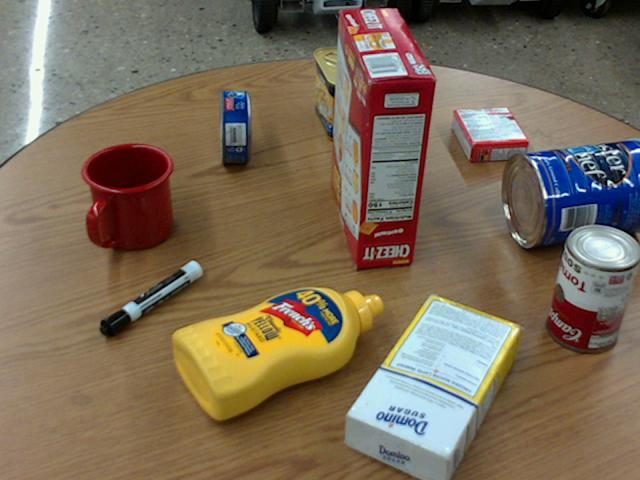cracker_box: (330, 7, 435, 267)
gelatin_box: (451, 107, 528, 161)
large_marker: (98, 259, 200, 336)
master_chef_can: (502, 137, 639, 246)
mug: (81, 143, 172, 250)
mustard_bottle: (171, 285, 382, 421)
potted_meat_can: (312, 46, 372, 141)
sugar_box: (343, 294, 521, 479)
tomato_soup_can: (547, 221, 639, 349)
tuna_fish_can: (220, 89, 249, 162)
